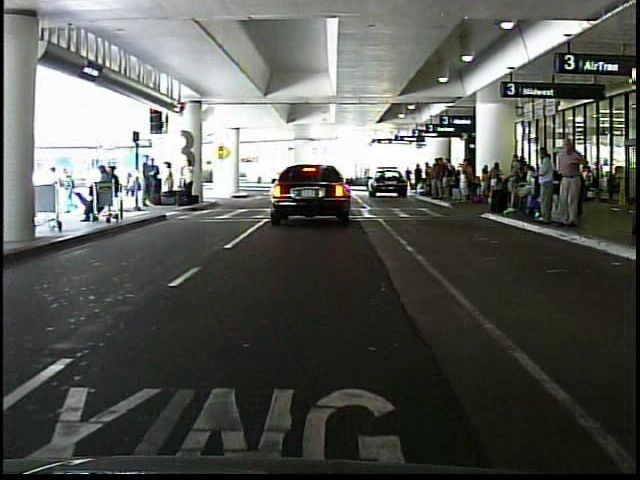person: (551, 134, 591, 234), (533, 145, 557, 226), (51, 162, 75, 219), (147, 156, 162, 204), (181, 158, 196, 204), (164, 160, 179, 204), (415, 160, 427, 197), (404, 160, 415, 194)
